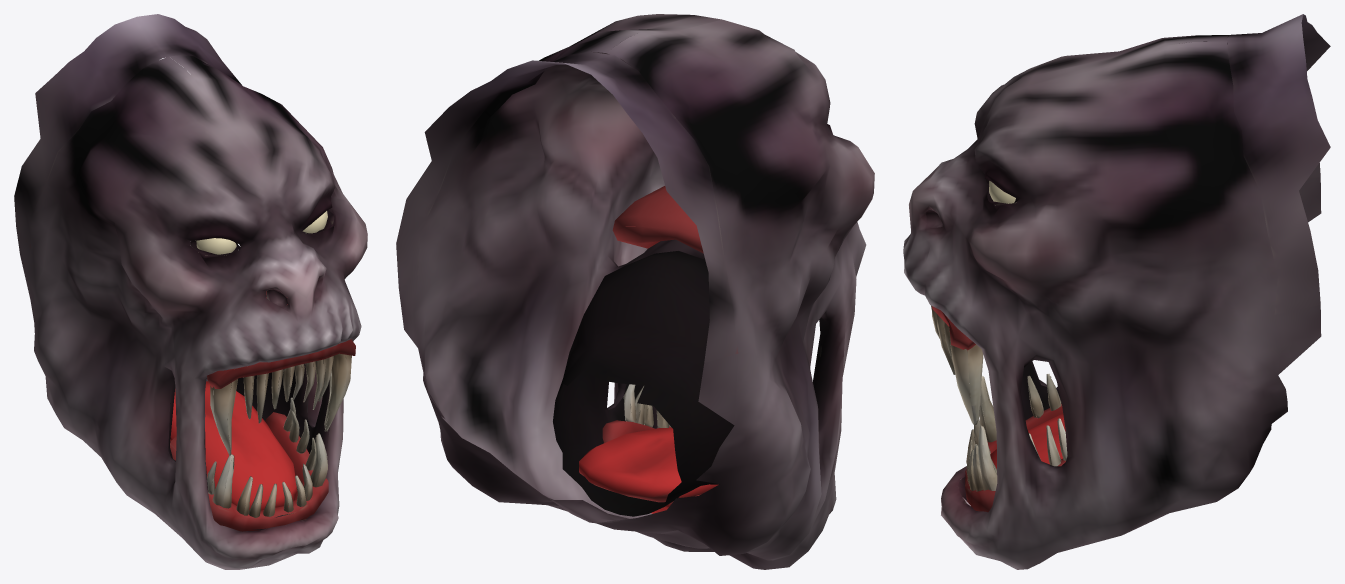
The model's file is crawler-head.glb.
The picture shows the model from 3 angles, left to right: view 1: azimuth 30°, elevation 25°; view 2: azimuth 150°, elevation 25°; view 3: azimuth 270°, elevation 25°; orthographic projection. The views are drawn at different scales.
Parts seen in each view (by area): view 1: crawlerHead; view 2: crawlerHead; view 3: crawlerHead.
Part boxes in pixels (box(x1,y1,x2,y2)): crawlerHead: box(14, 14, 367, 569); crawlerHead: box(396, 14, 874, 569); crawlerHead: box(903, 14, 1330, 569).
Bounding box in the file's own units: 0.1884 × 0.3077 × 0.2252.
Materials: 2 (2 with a texture image).
